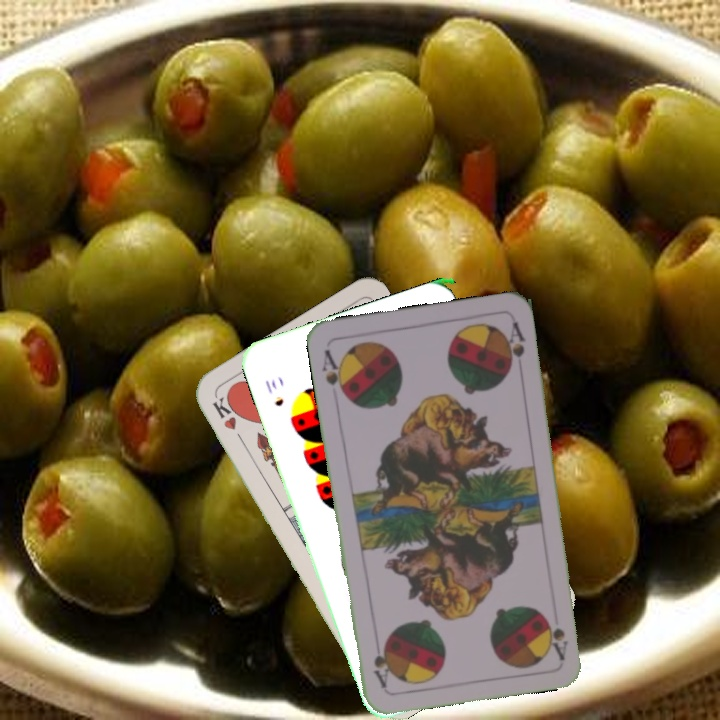HK: (208, 392, 248, 448)
S10: (261, 375, 286, 409)
SA: (318, 345, 350, 401), (544, 614, 571, 662)
